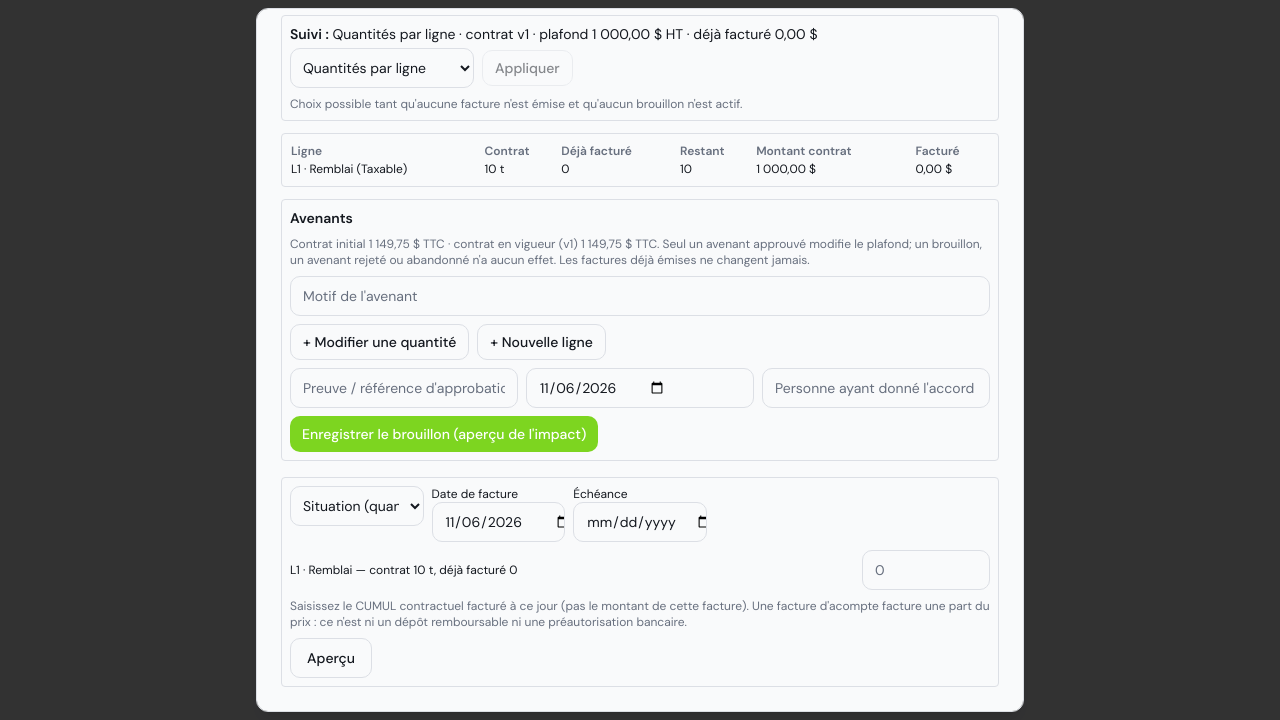
it: FIN-09B2 — quantités par ligne (UI simulée) › quantité invalide : aucun appel serveur
(page scrolled)
Type "-1" into the field named "Cumul réalisé L1" at {"x": 926, "y": 570}, box [862,550,990,590]
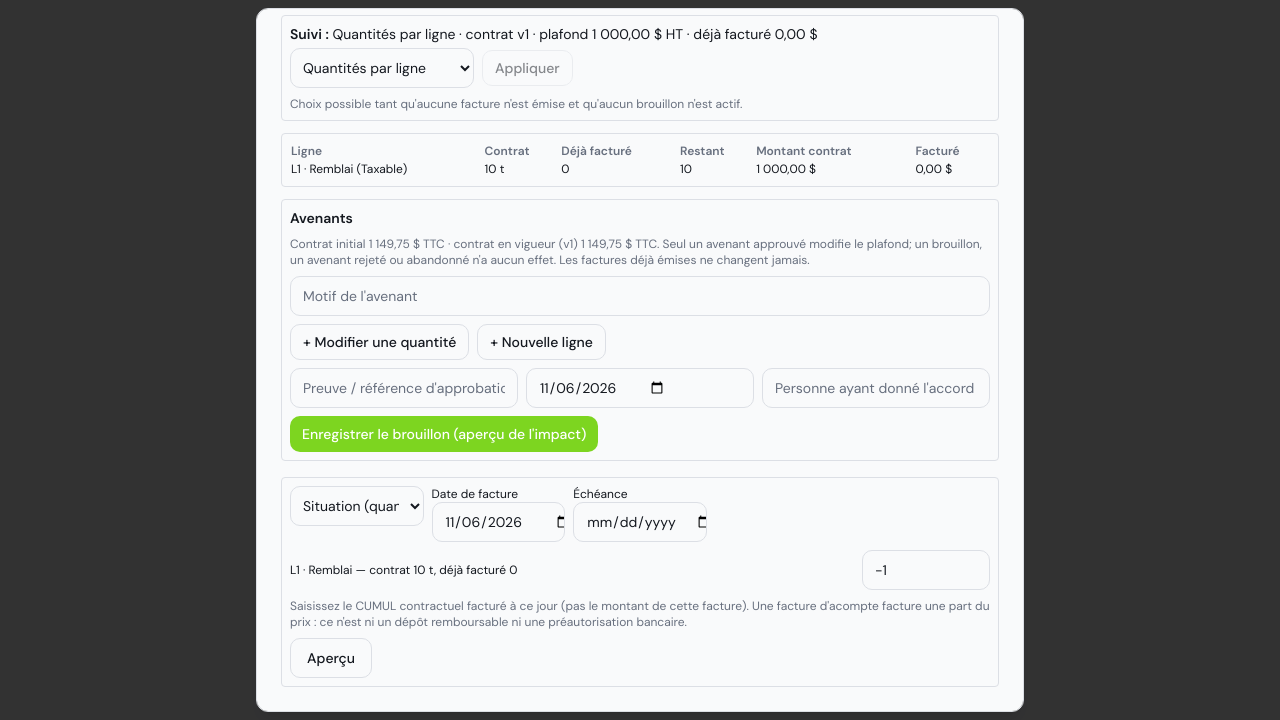
Click the button "Aperçu" at {"x": 331, "y": 658}, box [290,638,372,678]
(page scrolled)
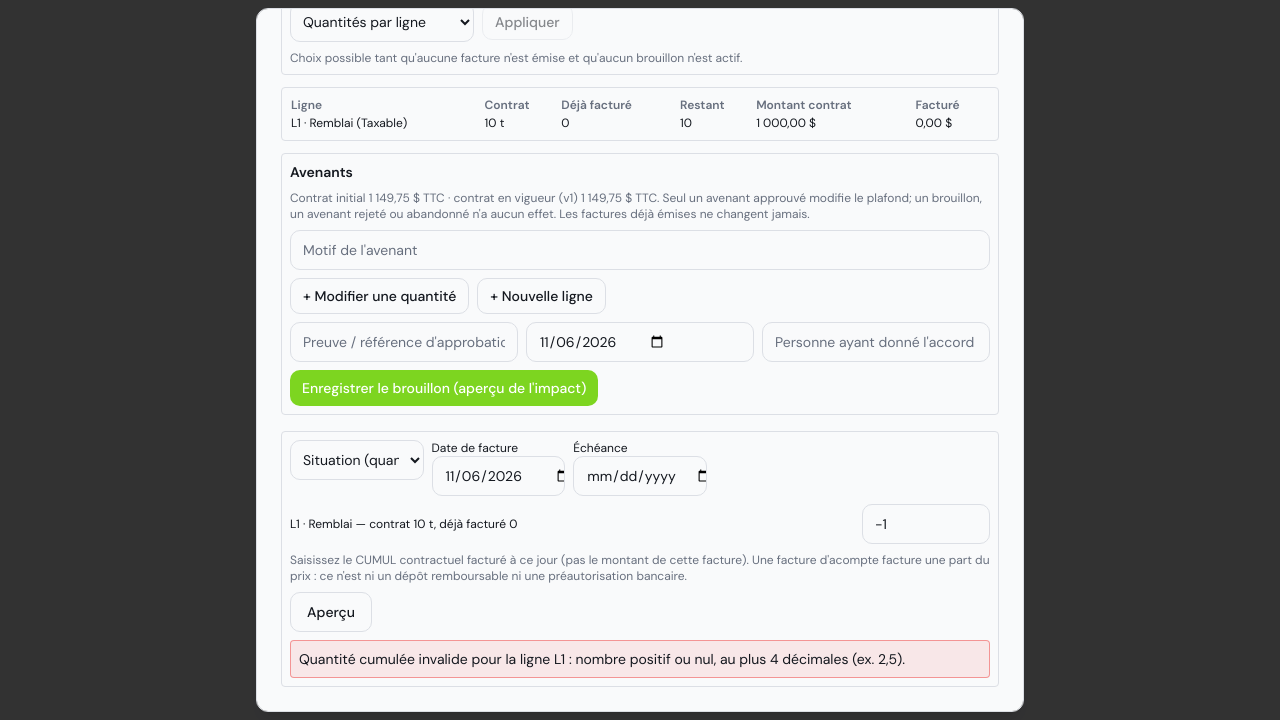
Result: the text "Quantité cumulée invalide" is shown at [299,650,905,668]
